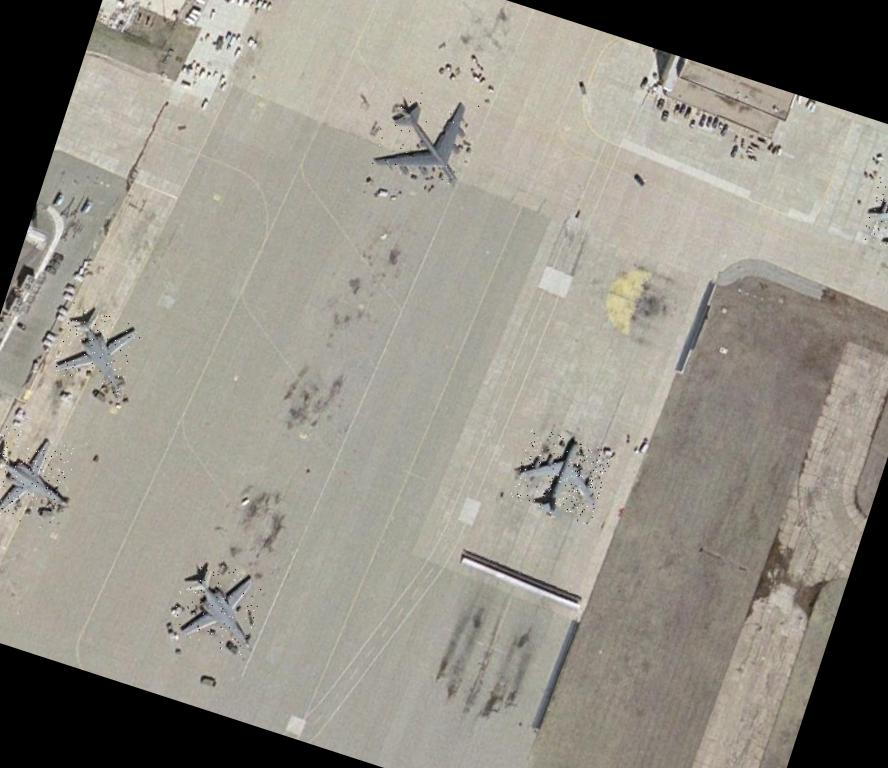A10: (166, 554, 269, 656), (49, 302, 144, 397), (0, 424, 77, 532)
A14: (509, 426, 614, 526), (859, 175, 888, 265)
A8: (368, 79, 483, 193)
